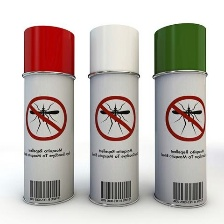aerosol_cans: (152, 20, 212, 210), (20, 21, 79, 208), (86, 21, 143, 210)
